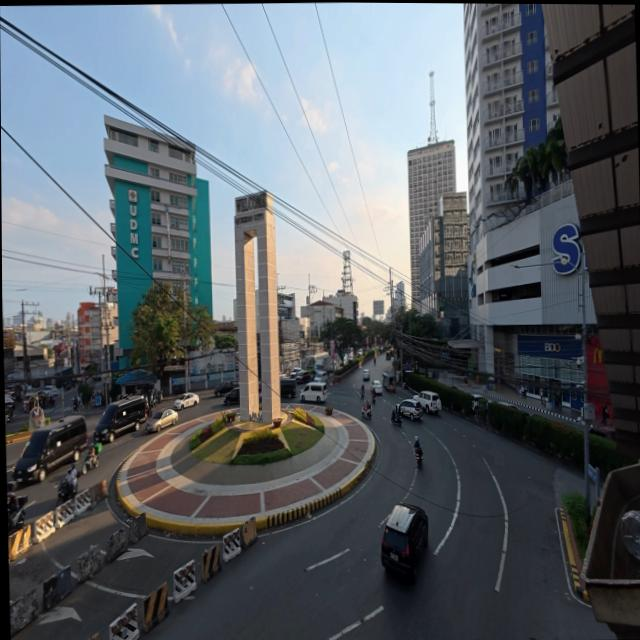Jeepneys: (382, 372, 396, 392), (386, 350, 391, 360)
car: (381, 504, 428, 578), (146, 409, 178, 432), (414, 391, 441, 414), (400, 399, 423, 420), (174, 392, 199, 410), (215, 380, 239, 397), (473, 394, 491, 413), (24, 393, 39, 412), (224, 388, 240, 404), (498, 401, 519, 410), (296, 370, 310, 383), (43, 385, 61, 395), (313, 370, 328, 382), (372, 381, 382, 395), (290, 368, 304, 378), (43, 385, 55, 393), (363, 370, 370, 381), (355, 349, 363, 358), (5, 417, 6, 425)
motorcycle: (7, 483, 28, 534), (81, 442, 102, 475), (58, 480, 77, 505), (391, 409, 402, 426), (145, 399, 152, 418), (415, 450, 422, 467), (155, 389, 163, 403), (362, 407, 371, 419), (72, 397, 79, 411), (174, 385, 183, 394), (372, 394, 376, 404), (362, 390, 365, 399), (374, 359, 376, 365)
trucks: (314, 353, 332, 374)
vans: (13, 416, 87, 483), (94, 396, 146, 442), (302, 382, 327, 403), (280, 378, 297, 398)
